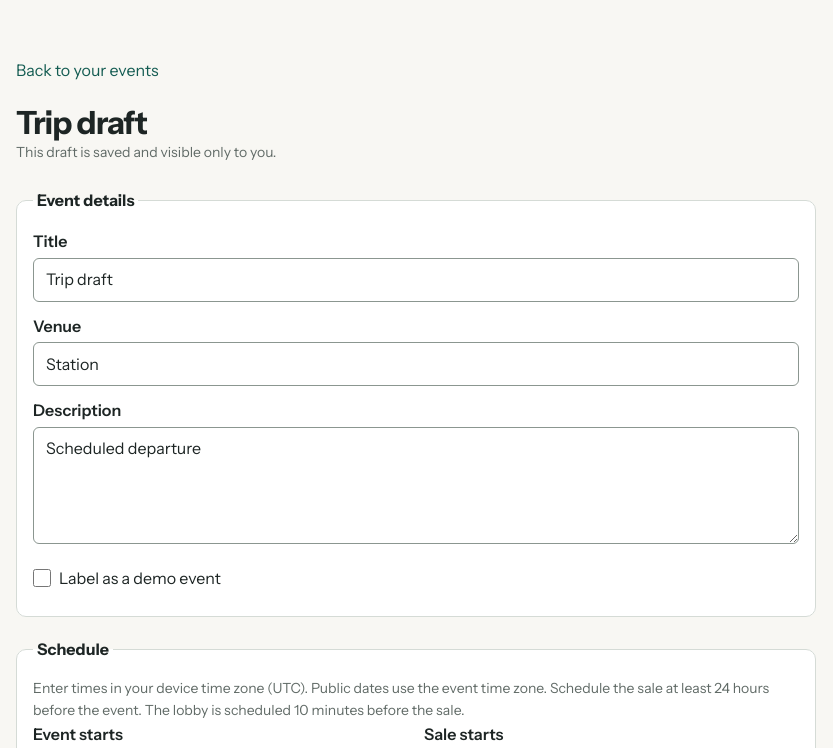
Test: an organizer saves the INR amount in paise and confirms the resulting revision
Replace the text in the field labelled "Title" with "New title": (416, 280) [33, 258, 799, 302]
(page scrolled)
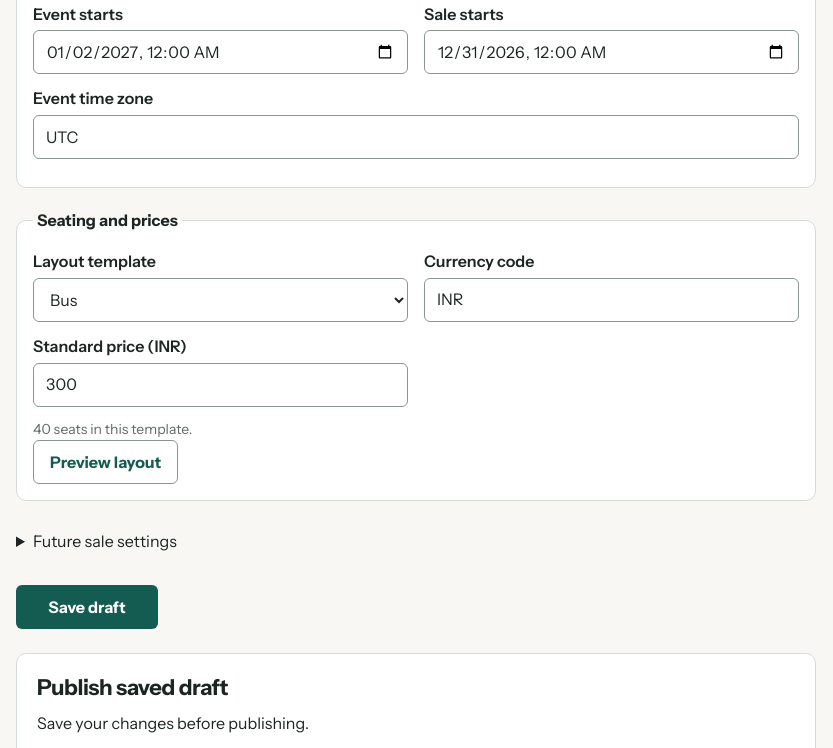
Replace the text in the field labelled "Standard price (INR)" with "199.99": (220, 385) [33, 363, 408, 407]
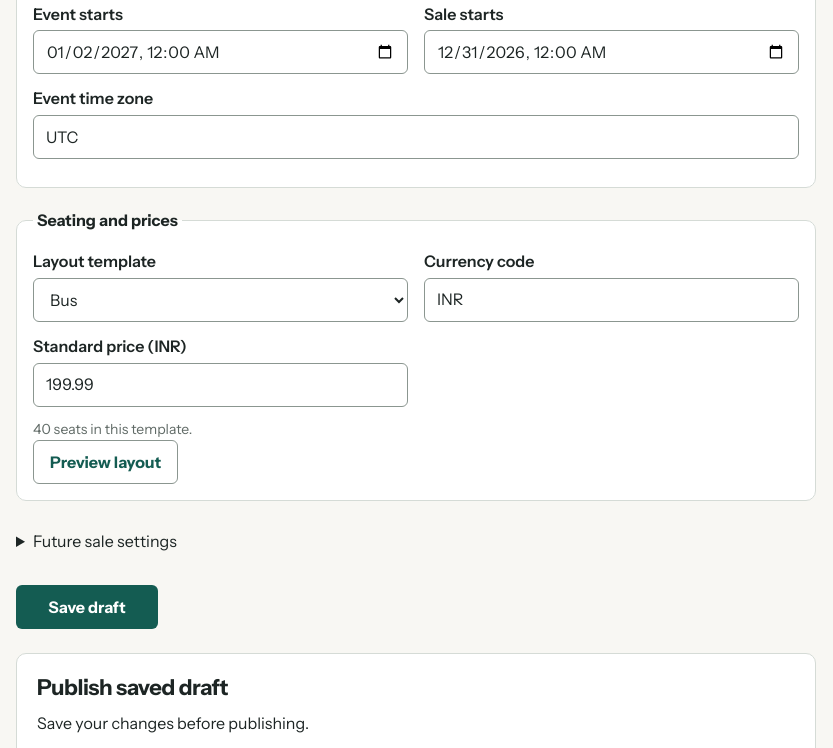
Click the button "Save draft": (87, 607) [16, 585, 158, 629]
(page scrolled)
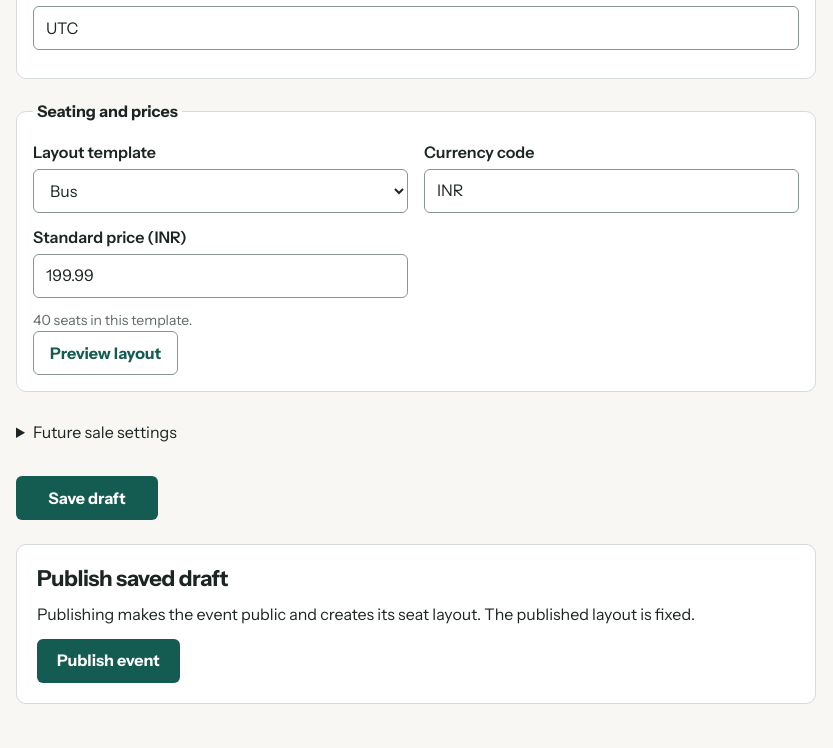
Click the button "Publish event": (108, 661) [37, 639, 180, 683]
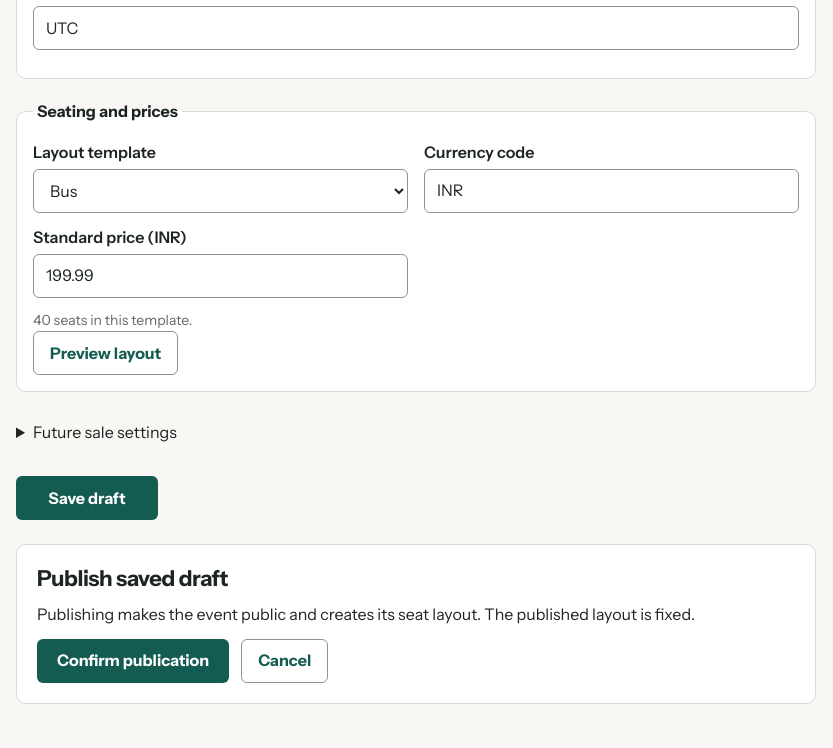
Click the button "Confirm publication": (133, 661) [37, 639, 229, 683]
(page scrolled)
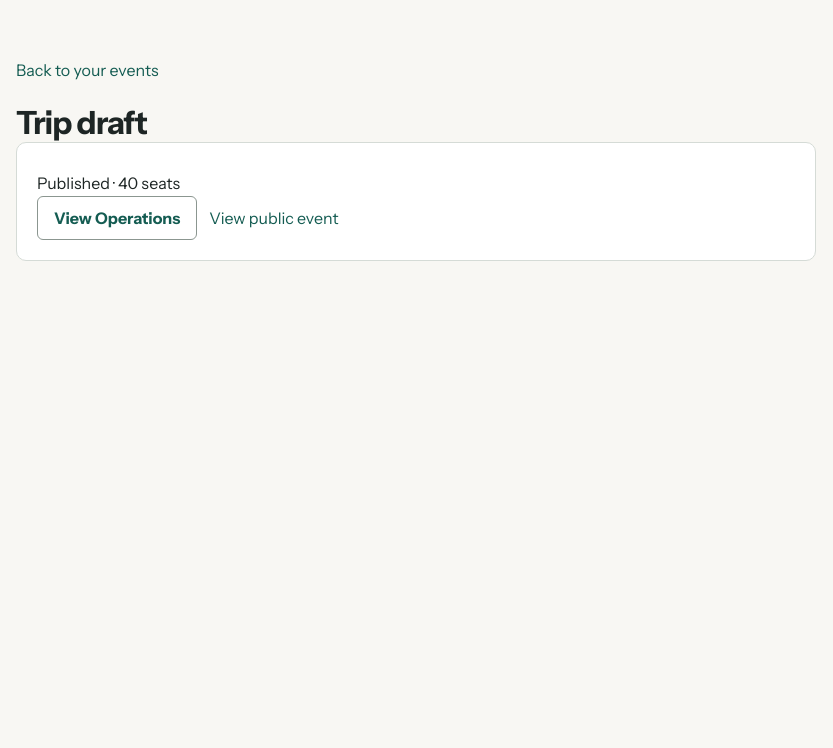
Now the text "Published · 40 seats" is shown, box [37, 173, 180, 193]
